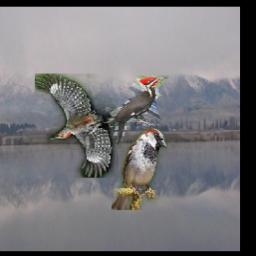Sparrow: (112, 128, 167, 211)
Woodpecker: (35, 75, 119, 179), (108, 76, 168, 152)
